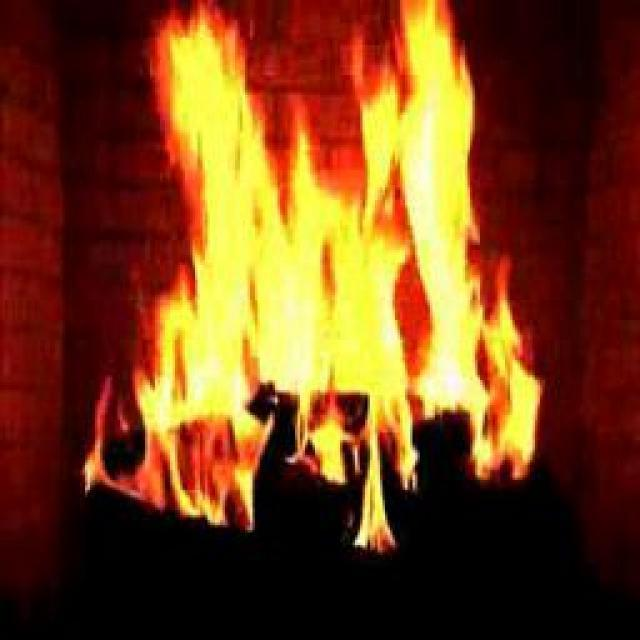Fire: (162, 42, 530, 460)
